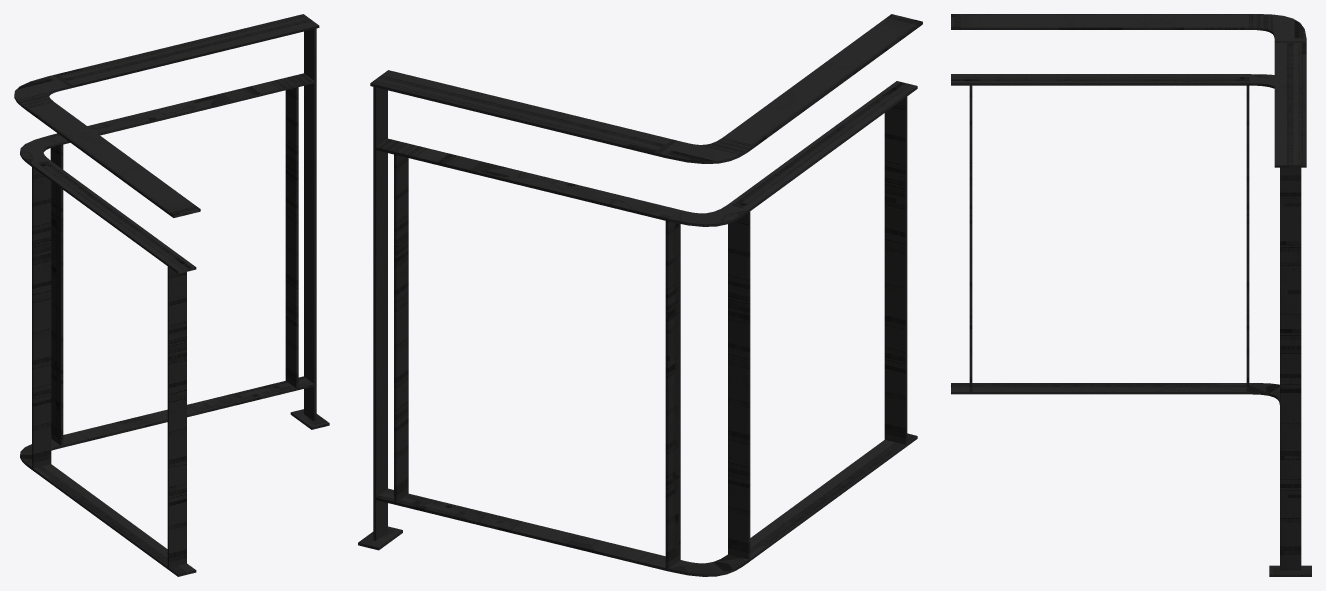
3 renders of one model, left to right at view 1: azimuth 30°, elevation 25°; view 2: azimuth 150°, elevation 25°; view 3: azimuth 270°, elevation 25°, orthographic. The views are drawn at different scales.
Visible parts, largest first — view 1: railing_42x32_corner; view 2: railing_42x32_corner; view 3: railing_42x32_corner.
Part boxes in pixels (left/top/right/bottom): railing_42x32_corner: left=14, top=14, right=329, bottom=576; railing_42x32_corner: left=358, top=14, right=922, bottom=576; railing_42x32_corner: left=951, top=14, right=1311, bottom=576.
Bounding box in the file's own units: 34.5 × 42.25 × 33.87.
Materials: 1 (1 with a texture image).
